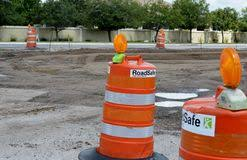barrel: (95, 61, 157, 155), (183, 98, 247, 158), (28, 31, 36, 48), (157, 32, 165, 48)
